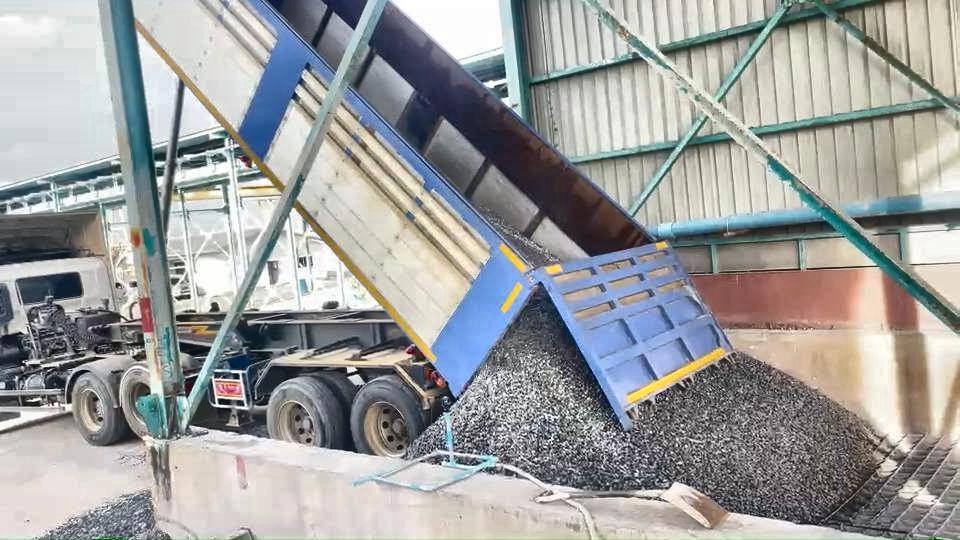gravel: (452, 292, 881, 522), (40, 491, 169, 538), (478, 206, 560, 265), (409, 420, 443, 456)
